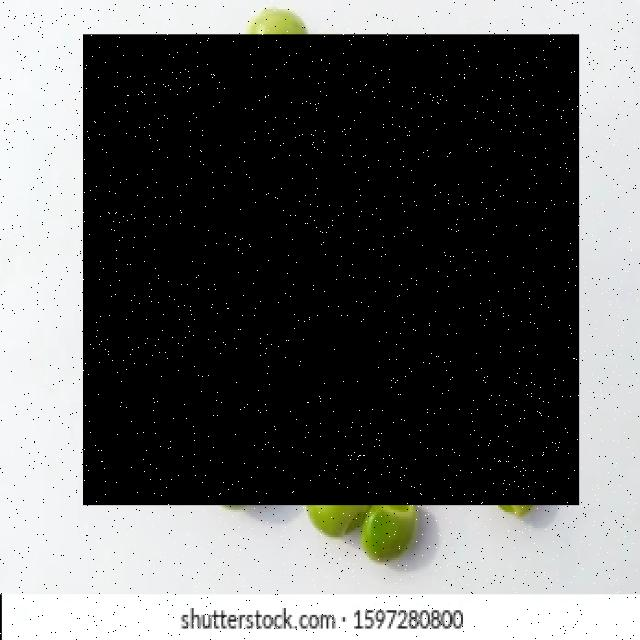Rahar_ko_Daal: (83, 37, 580, 507)
